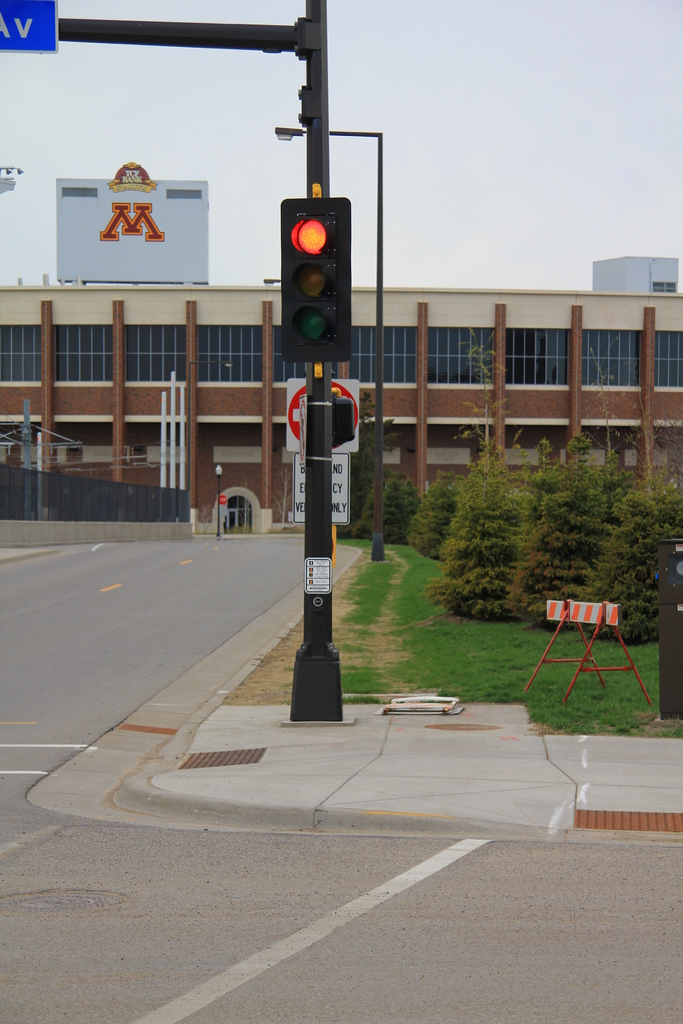red_light: (285, 204, 345, 354)
